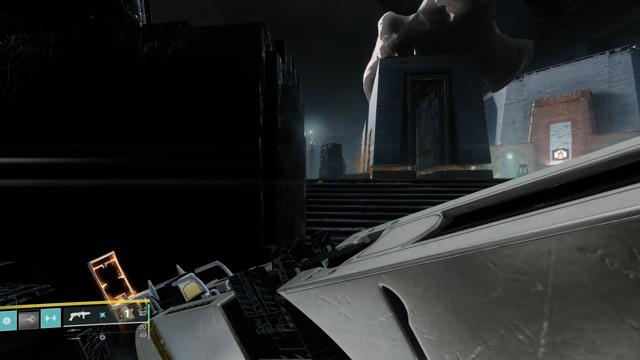worship: (554, 150, 567, 159)
